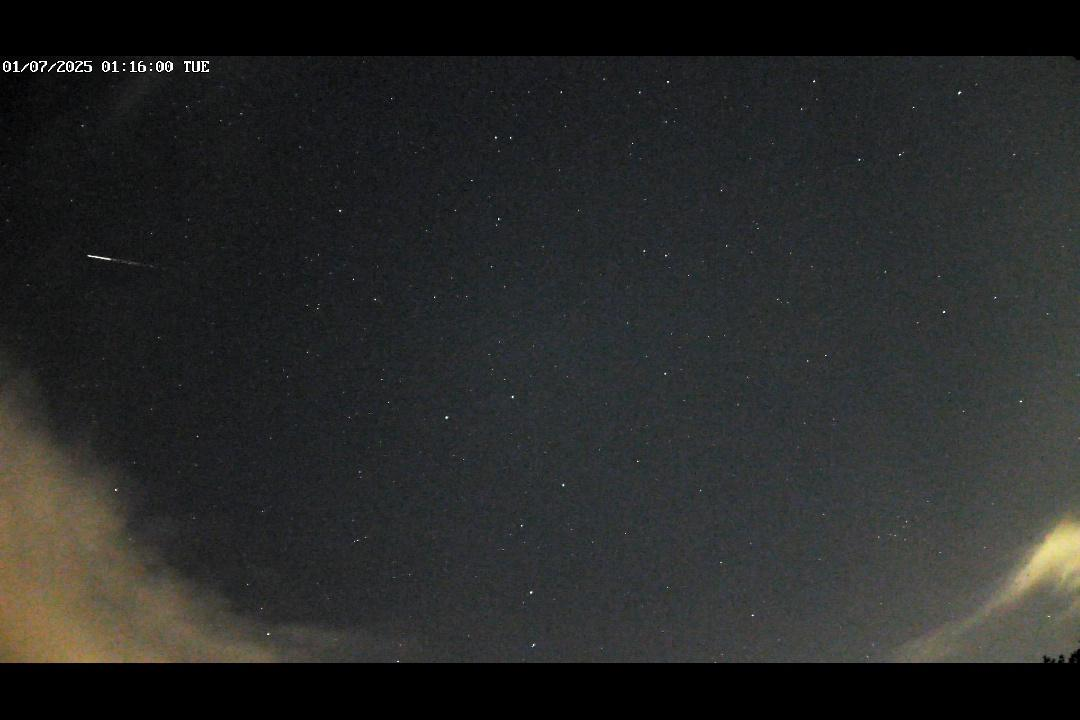Plane: (77, 249, 173, 274)
